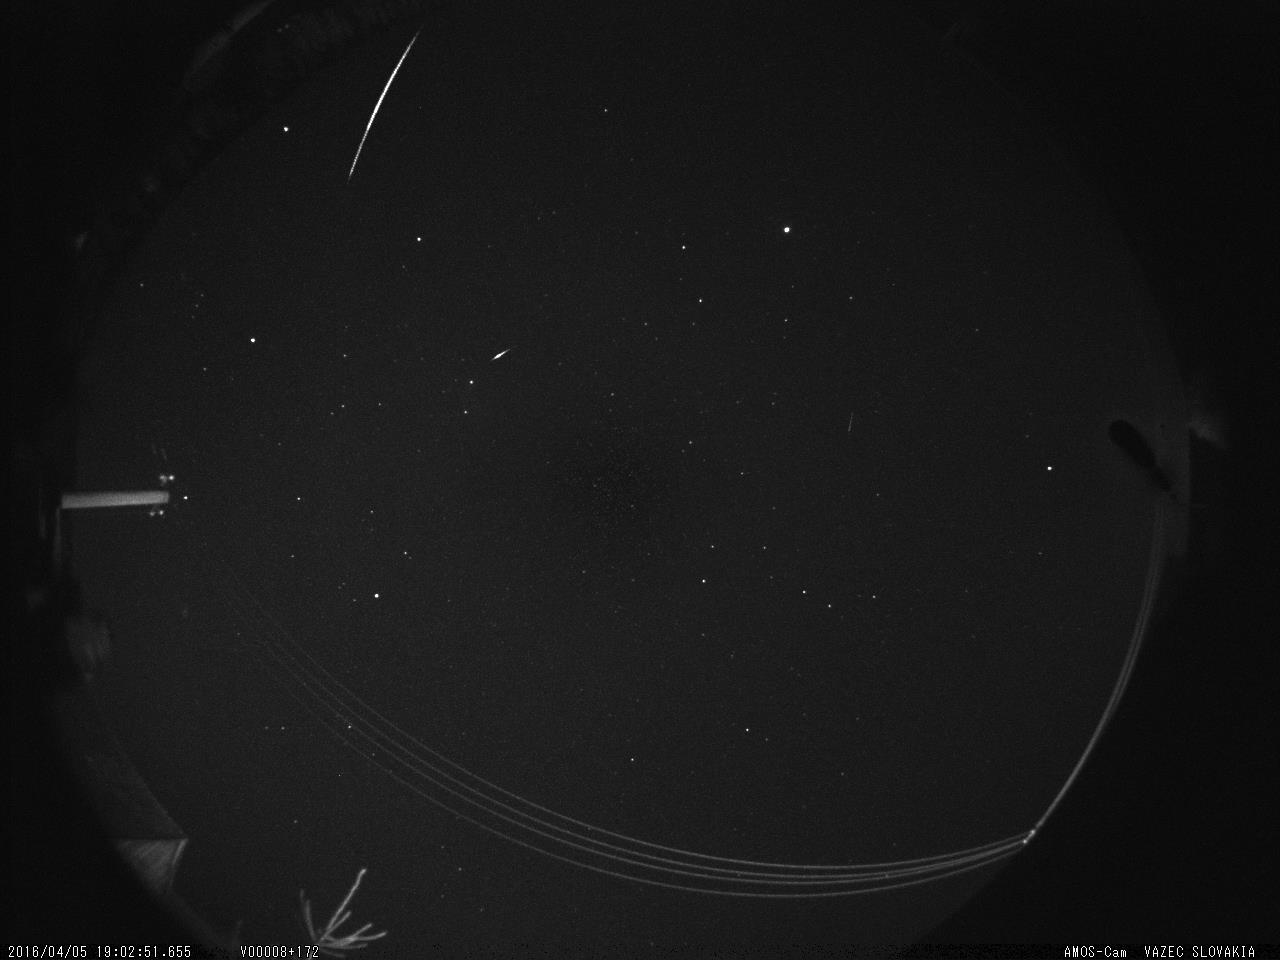meteor: (341, 13, 451, 191), (487, 341, 522, 369)
